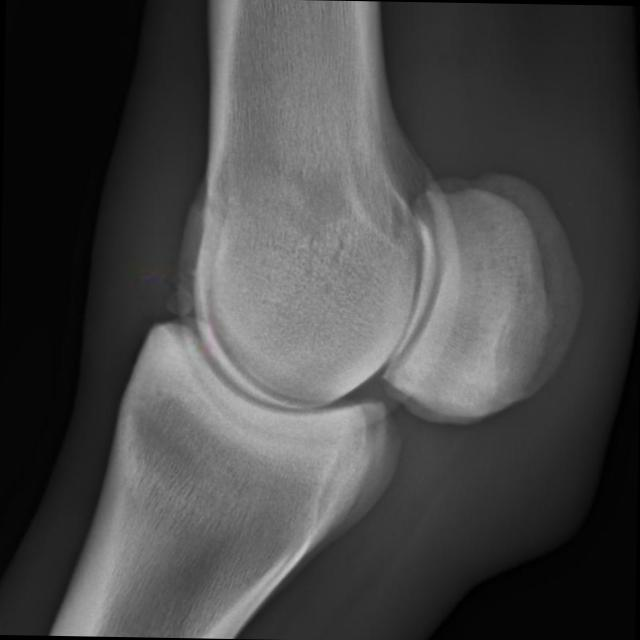bone remodeling: (24, 200, 302, 465)
